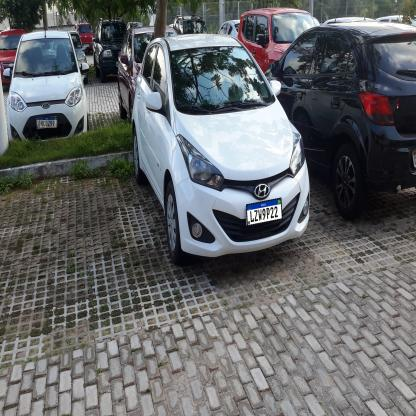PlacaM: (246, 198, 283, 226), (36, 117, 57, 128)
